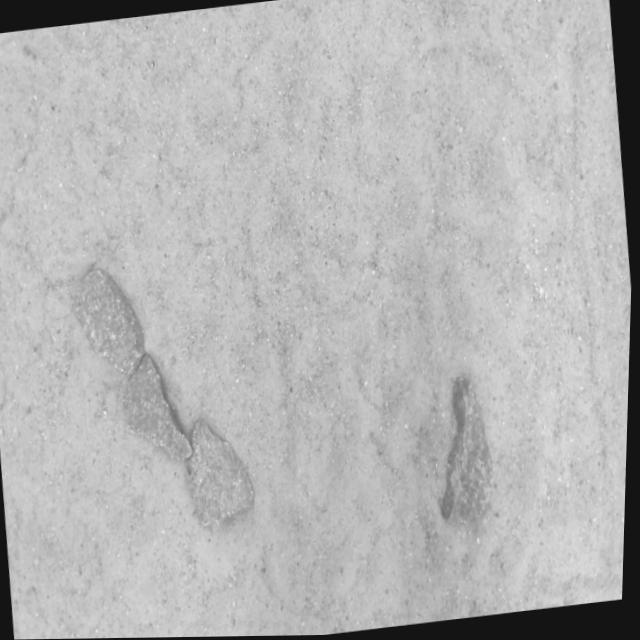rock: (73, 268, 145, 373), (443, 378, 494, 525), (125, 354, 193, 461), (188, 420, 255, 525)
